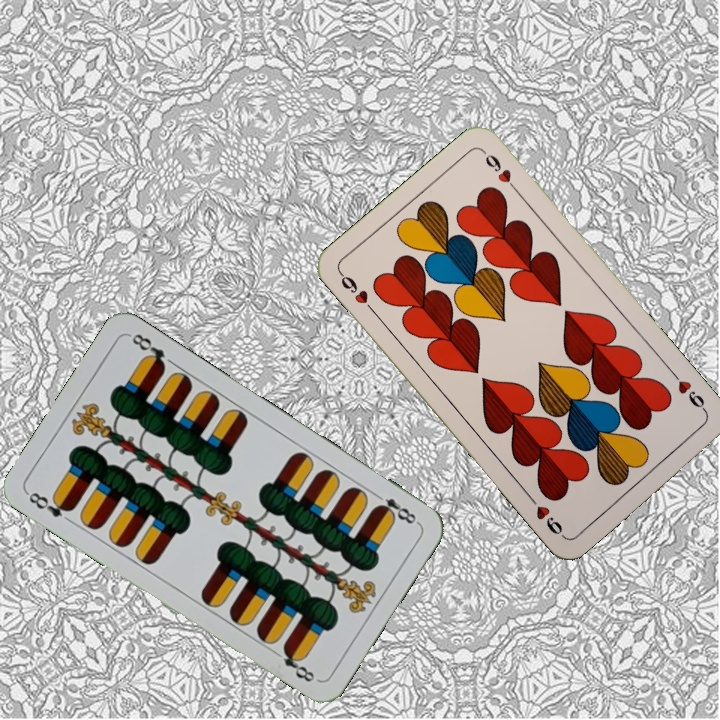E8: (369, 488, 421, 527), (23, 487, 77, 521)
H9: (336, 268, 379, 317), (667, 367, 710, 416)
